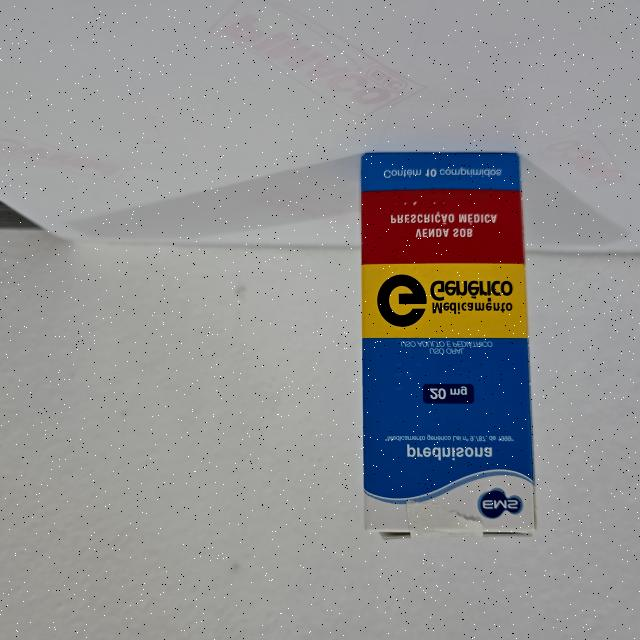prednisona: (359, 149, 539, 543)
